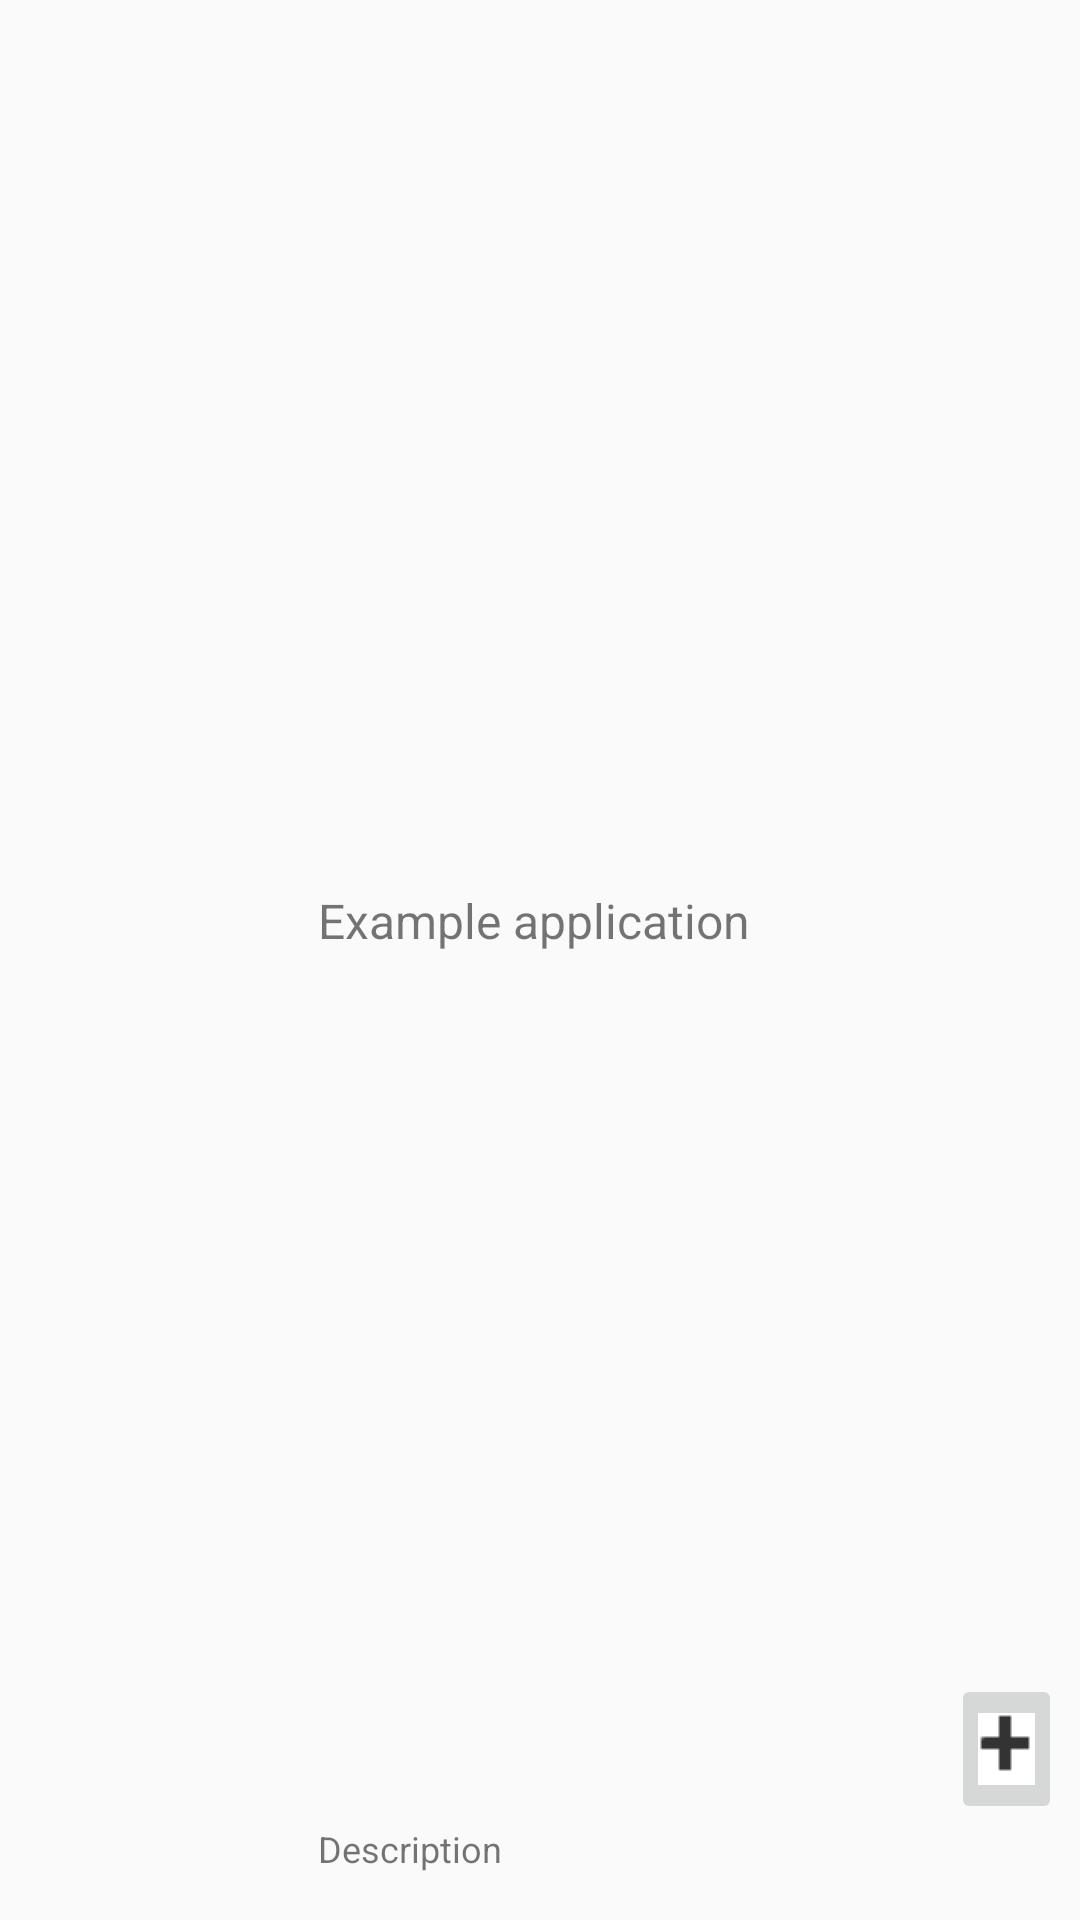

Named icons in this screenshot (1080x1920) and their bounding boxes, (left=x1, top=y1, right=x2, bottom=y2):
ADD: (left=963, top=1692, right=1050, bottom=1806)
